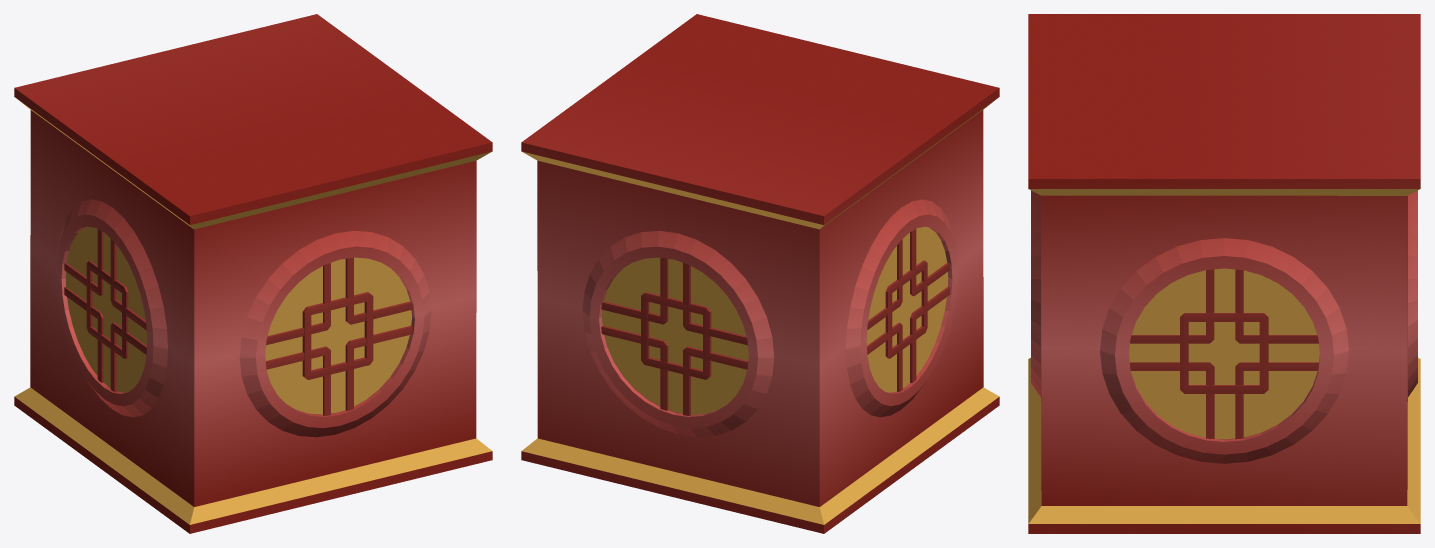
The model's file is Raven_New_Box.fbx.
3 views of the same model, side by side, from view 1: azimuth 30°, elevation 25°; view 2: azimuth 150°, elevation 25°; view 3: azimuth 270°, elevation 25° (orthographic). The views are drawn at different scales.
Parts seen in each view (by area): view 1: Cube.003; view 2: Cube.003; view 3: Cube.003.
Part boxes in pixels (x1,y1,x2,y2): Cube.003: (14, 14, 492, 533); Cube.003: (521, 14, 999, 533); Cube.003: (1028, 14, 1420, 533).
Bounding box in the file's own units: 126 × 126 × 126.
Materials: 3 (1 with a texture image).
